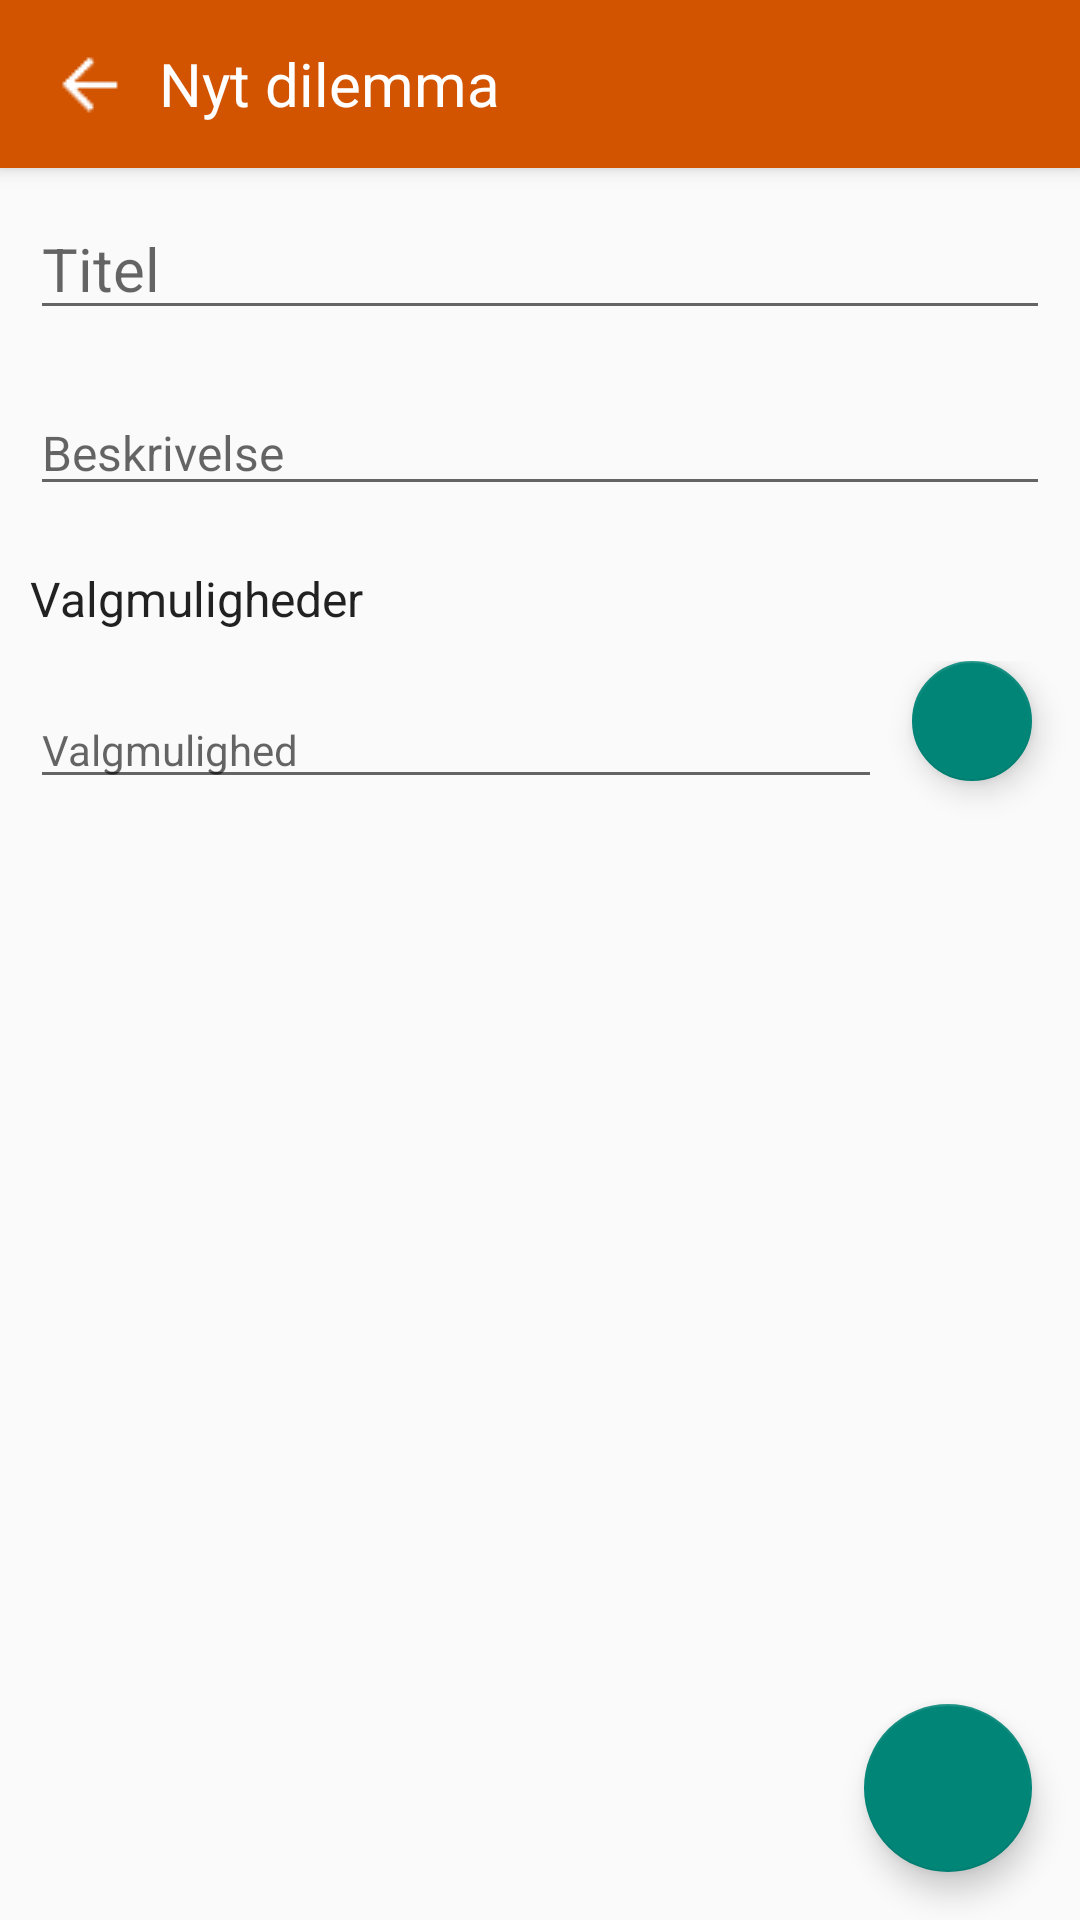

Where to tap for icons on this 1080w x 1920h app screen, as point (x, y):
arrow back: point (90, 85)
